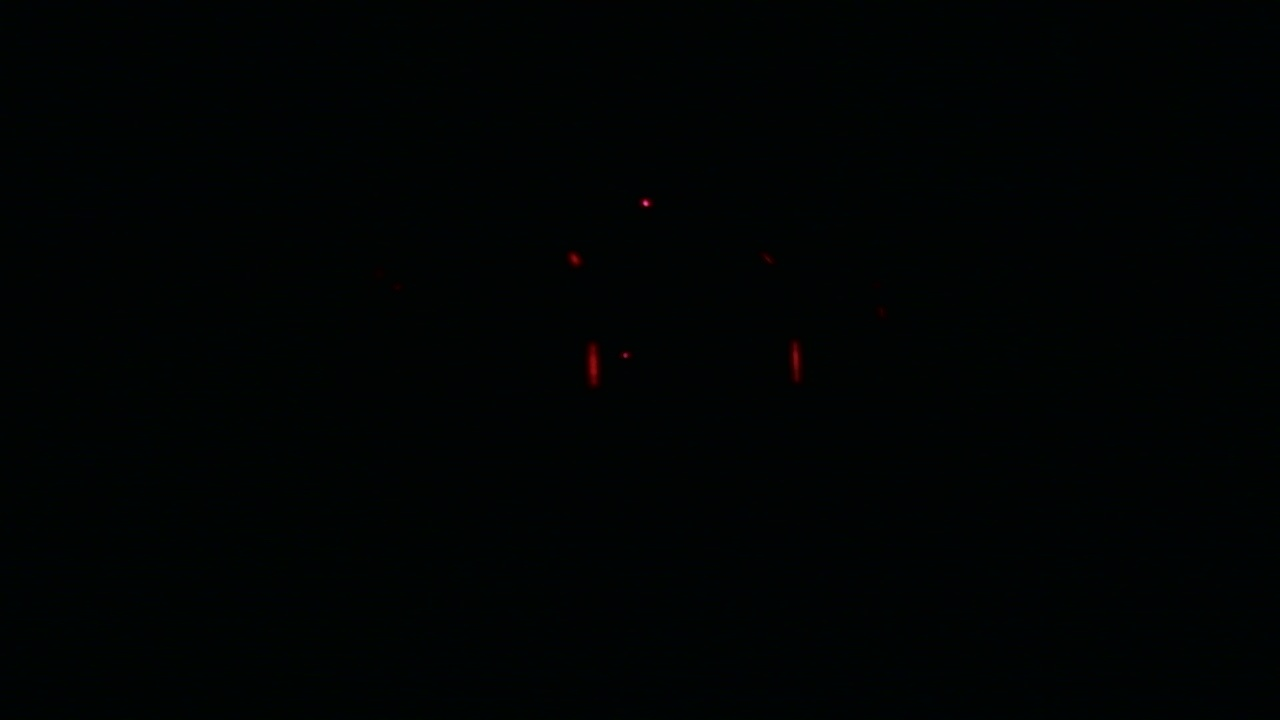lamp: (582, 342, 600, 382), (787, 339, 802, 383)
pair2: (583, 341, 803, 384)
